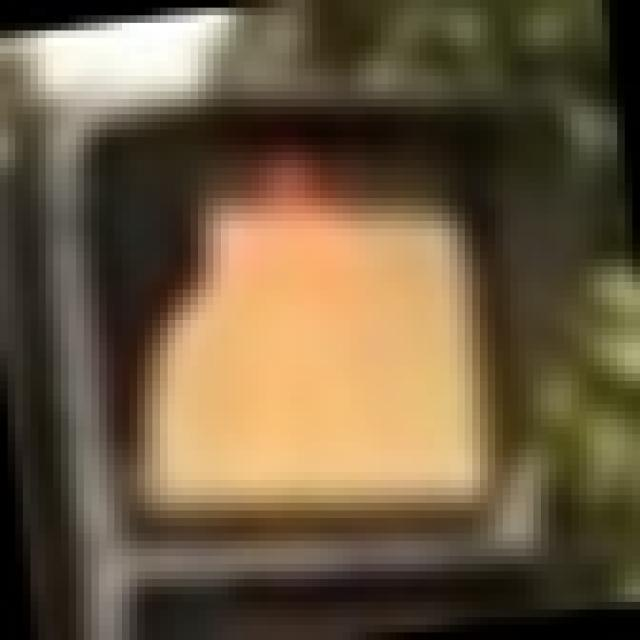red_light: (114, 69, 503, 534)
